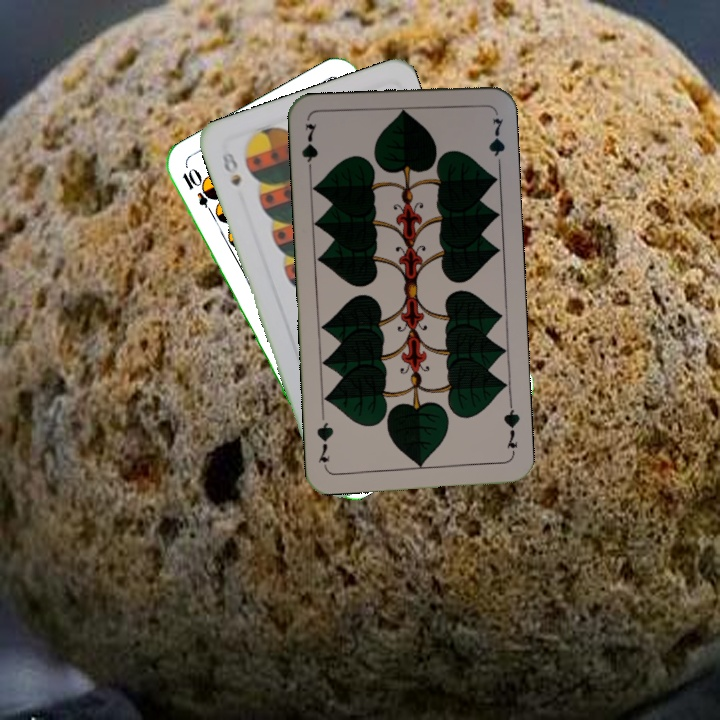E10: (178, 165, 219, 220)
G7: (298, 119, 321, 178), (500, 399, 522, 459)
S8: (218, 147, 244, 189)
